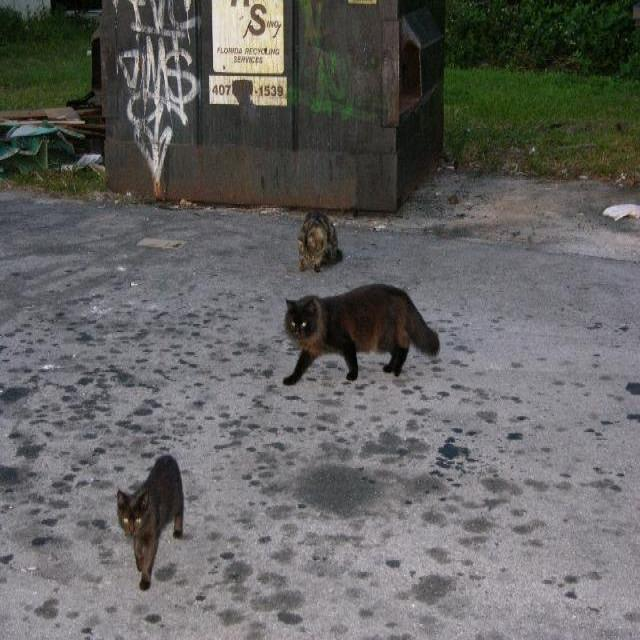cat: (284, 285, 440, 385), (118, 455, 182, 589), (298, 212, 341, 272)
